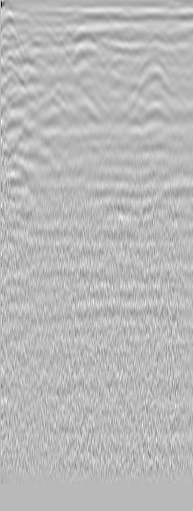오수: (1, 16, 25, 61)
우수: (147, 30, 167, 50)
